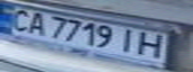1: (78, 19, 100, 46)
7: (42, 15, 66, 40), (60, 17, 81, 43)
9: (93, 21, 118, 51)
A: (21, 8, 51, 36)
C: (3, 6, 36, 33)
H: (133, 29, 169, 58)
I: (115, 26, 142, 54)
